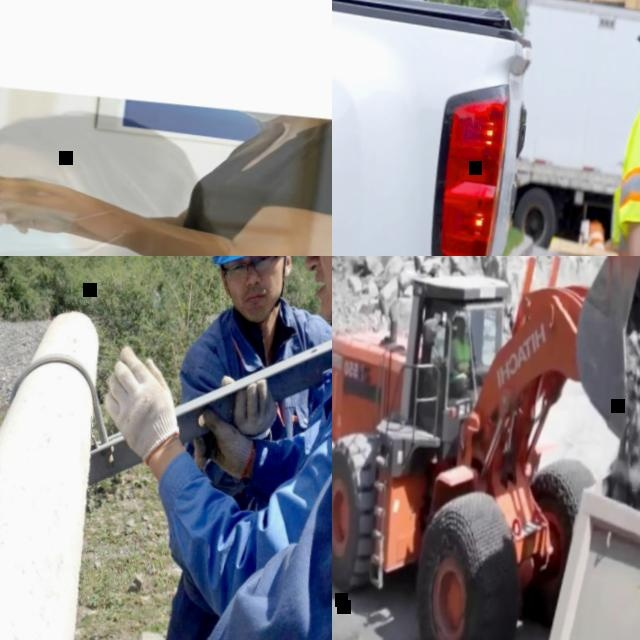Hardhat: (455, 316, 466, 327)
Mask: (0, 198, 102, 256), (236, 108, 281, 125)
NO-Hardhat: (0, 104, 177, 182)
NO-Mask: (228, 278, 280, 326), (302, 256, 332, 328), (456, 330, 463, 341)
NO-Safety Vest: (168, 300, 326, 605), (149, 108, 332, 256), (288, 279, 332, 560)
Person: (80, 256, 332, 640), (145, 256, 332, 640), (0, 98, 275, 256), (196, 323, 332, 640), (141, 102, 332, 256), (578, 0, 640, 256), (444, 315, 476, 395)
Safety Cone: (587, 222, 606, 249)
Safety Vest: (449, 337, 471, 375)
machinery: (332, 256, 640, 640), (528, 337, 640, 640)
vehicle: (332, 0, 616, 256)
